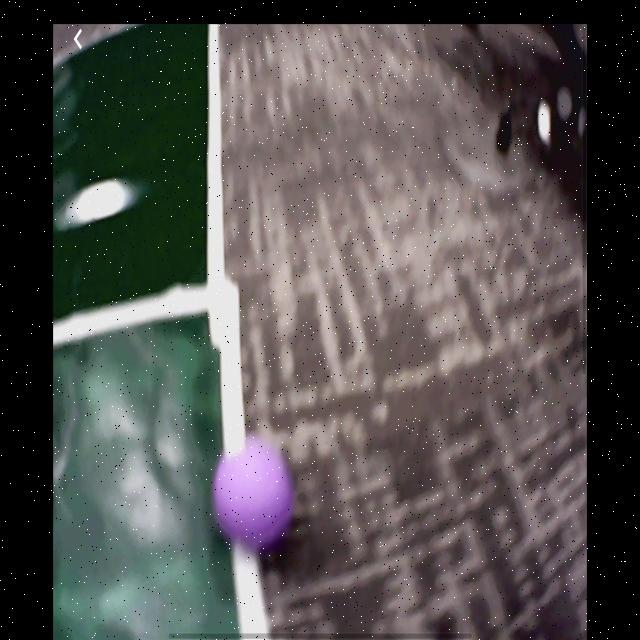ball: (212, 433, 296, 555)
